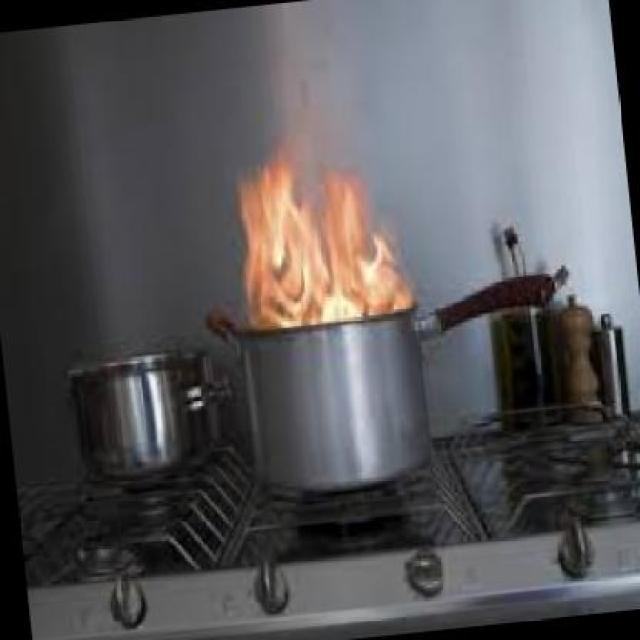Fire: (221, 153, 436, 324)
